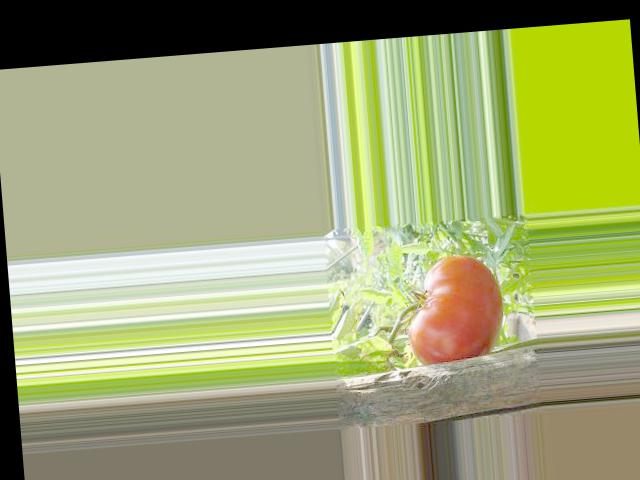tomato: (402, 251, 506, 367)
